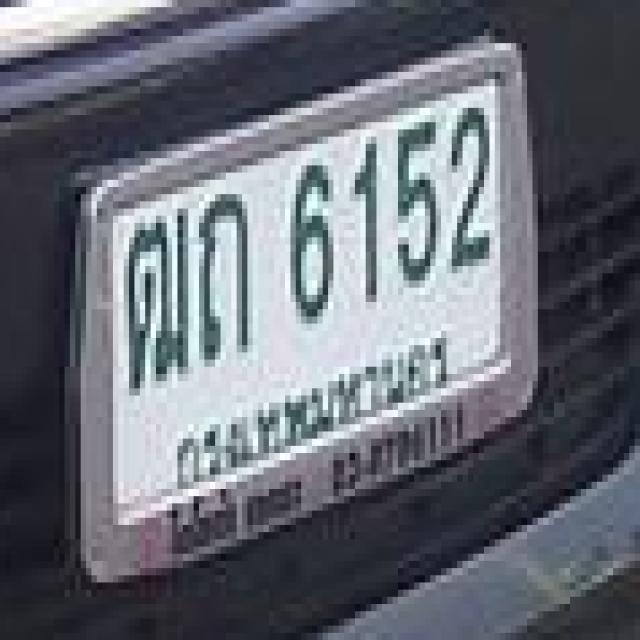license_plate: (85, 42, 525, 592)
